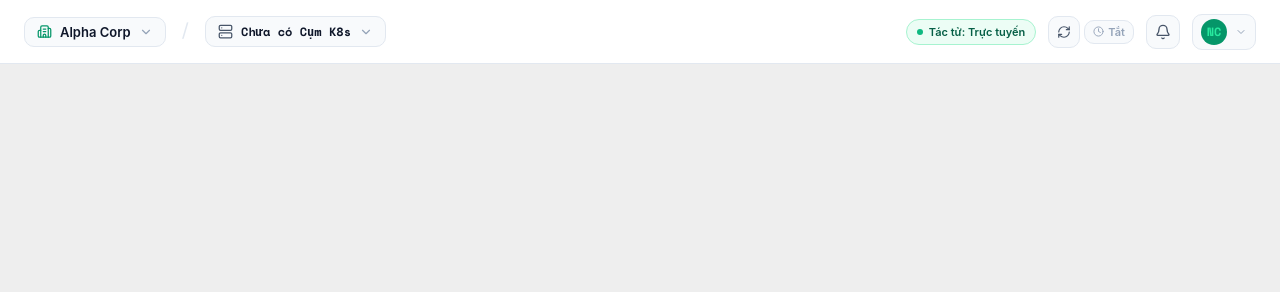
Test: TopHeader Component - Profile Dropdown Suite › TC01: Khi mở menu cá nhân, hiển thị đúng họ tên và email, KHÔNG hiển thị Role Badge
Click the button "NC": (1224,32) [1192,14,1256,50]
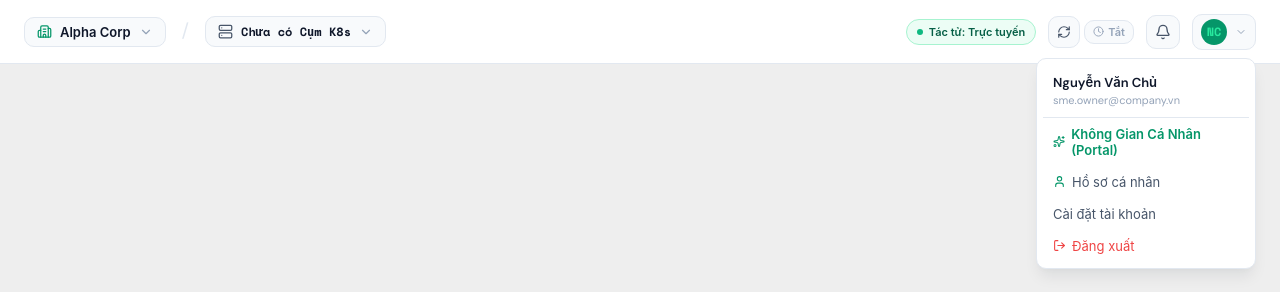
Expected: the text "sme.owner@company.vn" is shown, [1053,93,1180,107]
